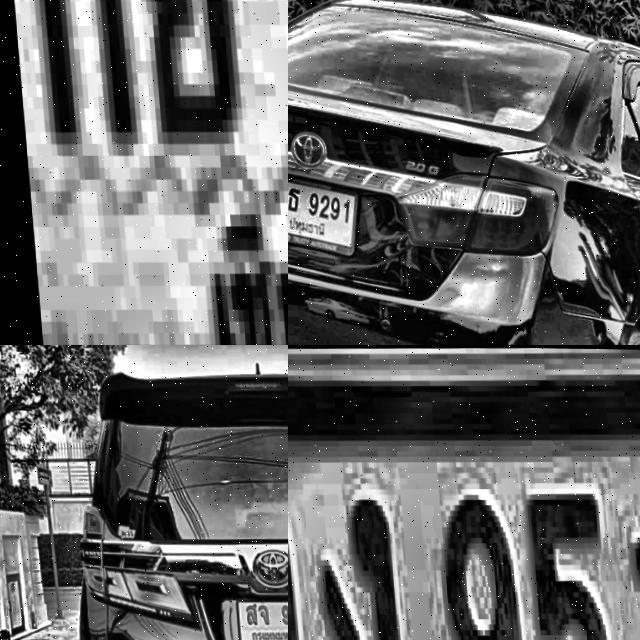license-plate: (288, 345, 640, 640), (0, 0, 288, 345), (288, 167, 359, 264), (229, 592, 288, 640)
